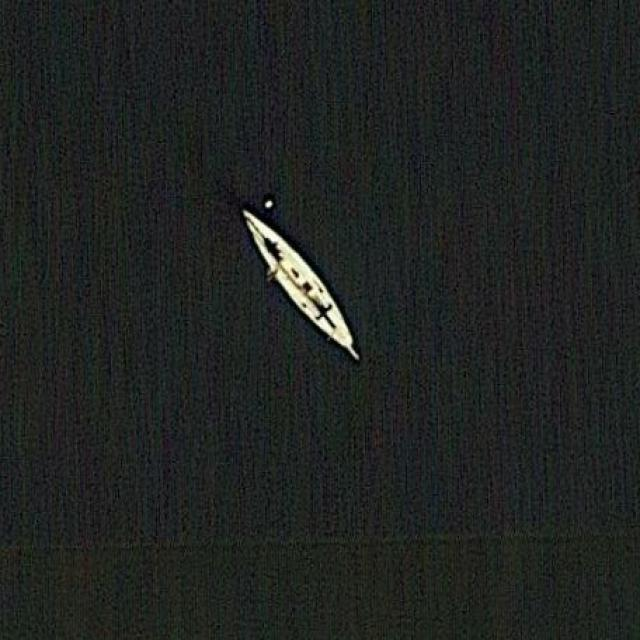ship: (232, 200, 368, 369)
